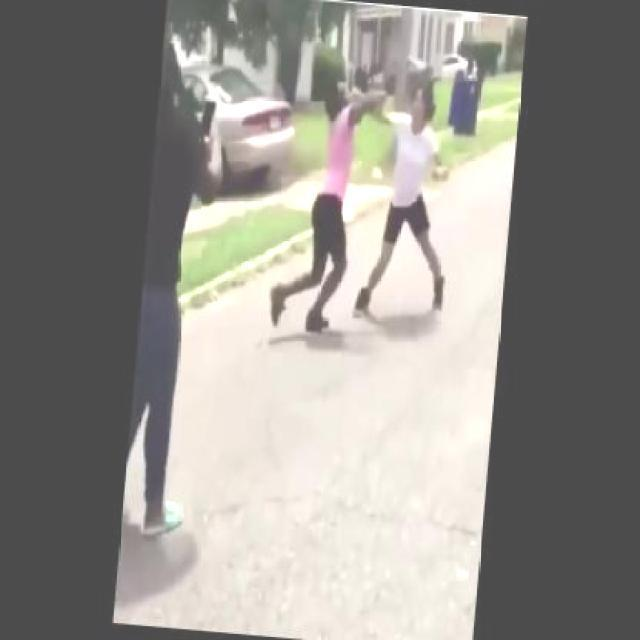fight: (300, 65, 462, 322)
